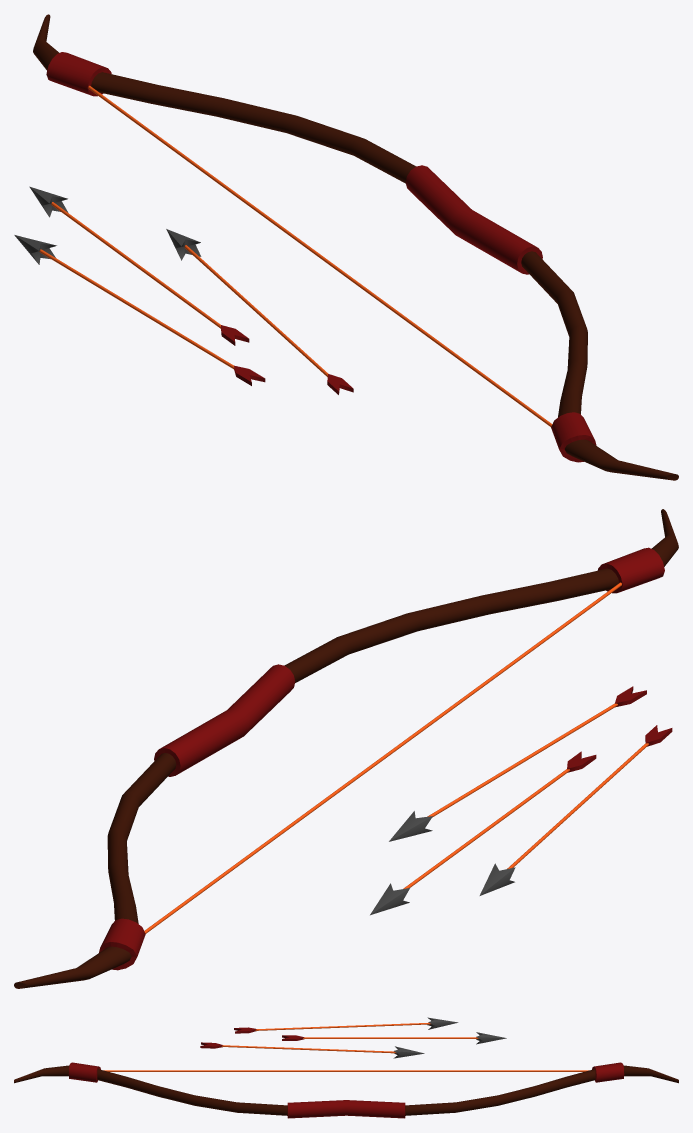
File: ArcoYFlechaMSv2.fbx
The picture shows the model from 3 angles, top to bottom: view 1: azimuth 30°, elevation 25°; view 2: azimuth 150°, elevation 25°; view 3: azimuth 270°, elevation 25°; orthographic projection. The views are drawn at different scales.
Visible parts, largest first — view 1: Cylinder001; view 2: Cylinder001; view 3: Cylinder001.
Boxes of the visible parts, x1,y1,x2,y2 form: Cylinder001: [14, 14, 678, 480]; Cylinder001: [14, 509, 678, 988]; Cylinder001: [14, 1017, 678, 1118].
Size of the model in its own units: 9.99 by 0.6895 by 29.13.
